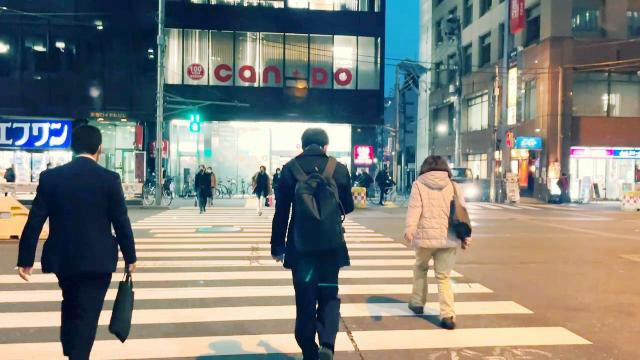berjalan: (16, 122, 140, 360), (272, 127, 358, 357), (405, 154, 471, 330)
